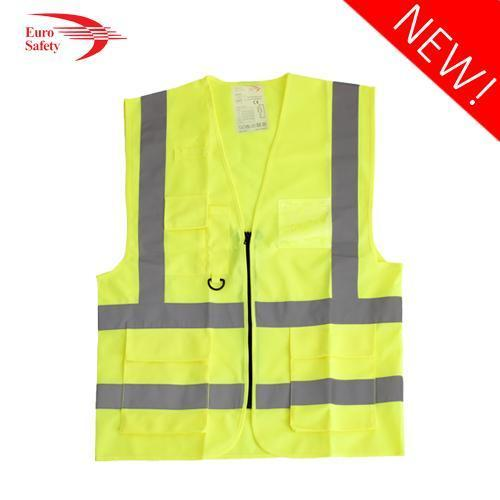vest: (95, 72, 406, 462)
